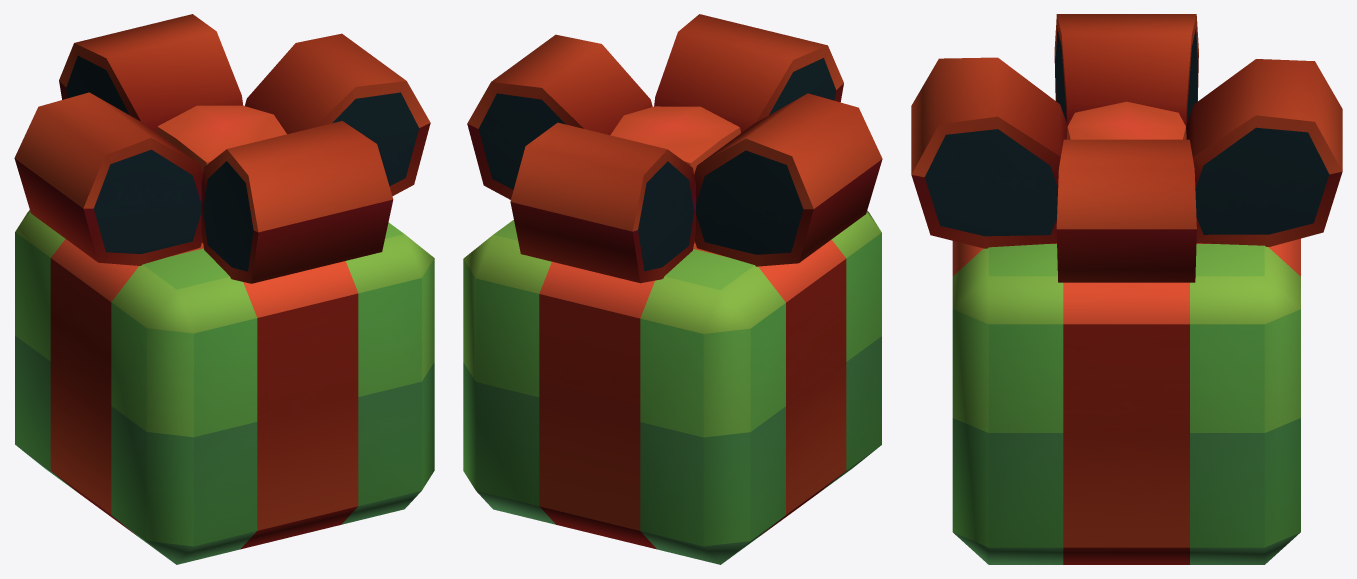
Rendered from presi_square_6_green.fbx.
3 views of the same model, side by side, from view 1: azimuth 30°, elevation 25°; view 2: azimuth 150°, elevation 25°; view 3: azimuth 270°, elevation 25° (orthographic). The views are drawn at different scales.
Parts seen in each view (by area): view 1: presi_square_6_green; view 2: presi_square_6_green; view 3: presi_square_6_green.
Boxes of the visible parts, x1,y1,x2,y2 form: presi_square_6_green: [14, 14, 434, 564]; presi_square_6_green: [463, 14, 882, 564]; presi_square_6_green: [911, 14, 1342, 564].
Size of the model in its own units: 67.54 by 74 by 69.07.
Materials: 1 (1 with a texture image).
